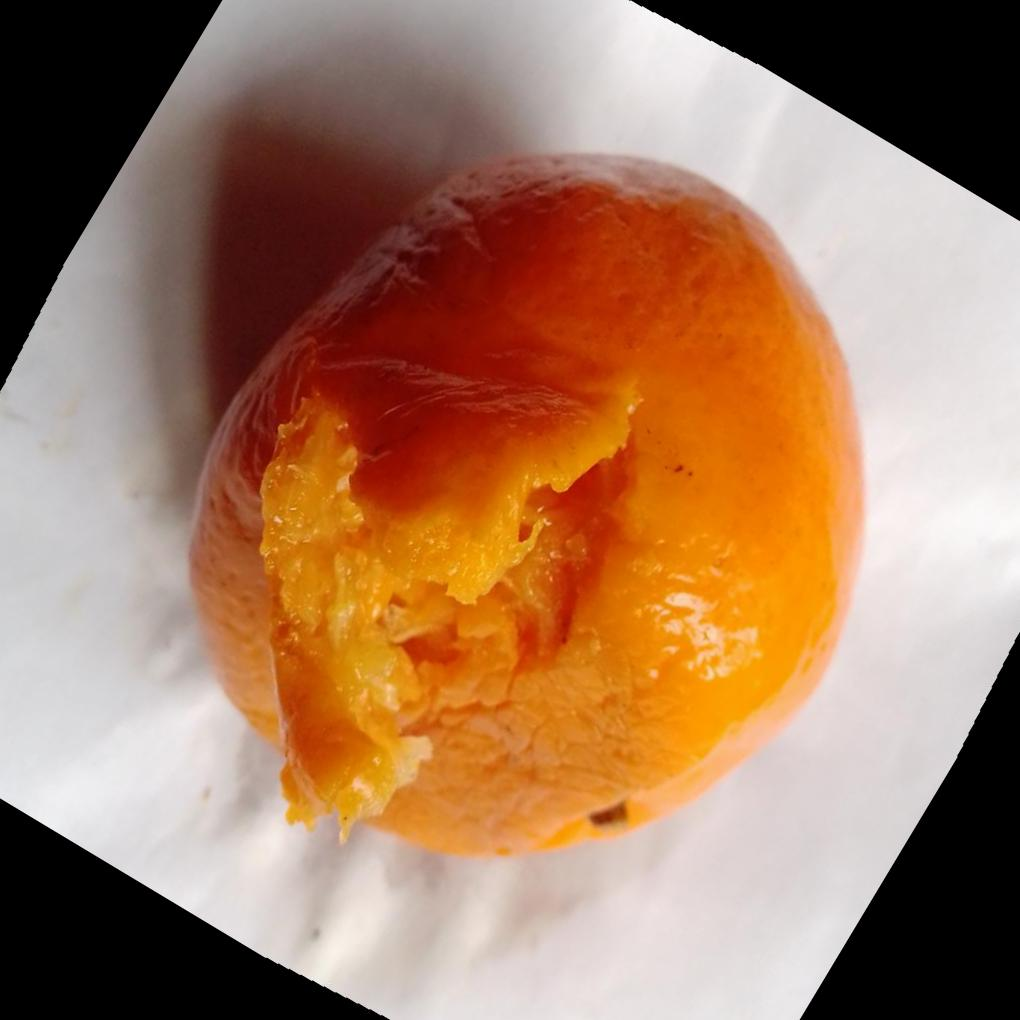FreshOrange: (184, 149, 867, 862)
